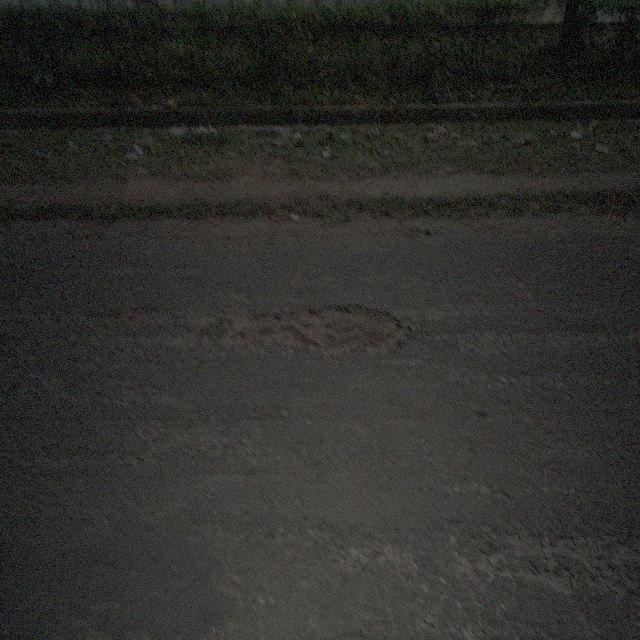pothole: (214, 300, 410, 362)
